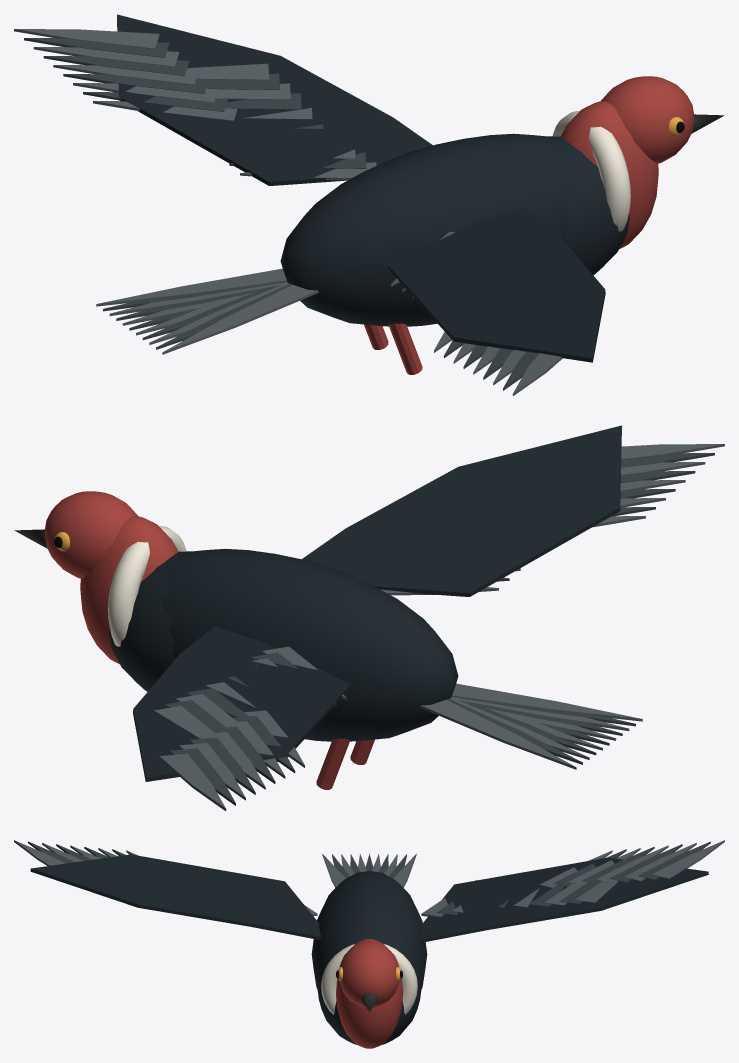
The model's file is Condor_Andino_Purmamarca.glb.
The picture shows the model from 3 angles, top to bottom: view 1: azimuth 30°, elevation 25°; view 2: azimuth 150°, elevation 25°; view 3: azimuth 270°, elevation 25°; orthographic projection. The views are drawn at different scales.
Parts seen in each view (by area): view 1: Condor cuerpo, Superficie ala.001, Superficie ala, Condor cabeza, Condor pecho, Condor cuello, Condor collar blanco, Pluma cola, Pluma cola.010, Pluma primaria.008, Pluma primaria.006, Pluma primaria.004 (+18 smaller); view 2: Condor cuerpo, Superficie ala.001, Superficie ala, Condor cabeza, Condor pecho, Condor cuello, Condor collar blanco, Pluma cola.010, Pluma cola, Pluma primaria.008, Pluma primaria.017, Pata condor.001 (+16 smaller); view 3: Superficie ala.001, Superficie ala, Condor cuerpo, Condor cabeza, Condor cuello, Condor collar blanco, Condor pecho, Pluma primaria.008, Pluma primaria.005, Pluma primaria.007, Pluma primaria.006, Pluma primaria.004 (+5 smaller).
Boxes of the visible parts, <box> form: Condor cuerpo: <box>280,133,576,326</box>; Superficie ala.001: <box>388,207,605,362</box>; Superficie ala: <box>117,14,432,185</box>; Condor cabeza: <box>601,76,694,163</box>; Condor pecho: <box>548,136,629,275</box>; Condor cuello: <box>560,101,658,248</box>; Condor collar blanco: <box>552,111,630,231</box>; Pluma cola: <box>162,285,318,354</box>; Pluma cola.010: <box>96,268,286,306</box>; Pluma primaria.008: <box>14,29,159,48</box>; Pluma primaria.006: <box>33,47,179,66</box>; Pluma primaria.004: <box>53,65,198,84</box>; Condor cuerpo: <box>162,548,458,741</box>; Superficie ala.001: <box>302,425,621,596</box>; Superficie ala: <box>133,626,350,781</box>; Condor cabeza: <box>44,491,137,578</box>; Condor pecho: <box>109,551,190,691</box>; Condor cuello: <box>80,516,178,664</box>; Condor collar blanco: <box>108,526,186,646</box>; Pluma cola.010: <box>420,700,576,769</box>; Pluma cola: <box>452,683,642,721</box>; Pluma primaria.008: <box>159,753,226,811</box>; Pluma primaria.017: <box>621,444,724,459</box>; Pata condor.001: <box>316,738,350,789</box>; Superficie ala.001: <box>30,854,320,939</box>; Superficie ala: <box>419,857,708,942</box>; Condor cuerpo: <box>311,871,427,989</box>; Condor cabeza: <box>339,941,399,1007</box>; Condor cuello: <box>336,939,402,1048</box>; Condor collar blanco: <box>321,944,417,1014</box>; Condor pecho: <box>317,949,421,1044</box>; Pluma primaria.008: <box>652,840,724,879</box>; Pluma primaria.005: <box>609,844,682,882</box>; Pluma primaria.007: <box>638,841,710,880</box>; Pluma primaria.006: <box>624,843,696,881</box>; Pluma primaria.004: <box>596,845,668,883</box>.
Size of the model in its own units: 6.02 by 2.12 by 8.73.
